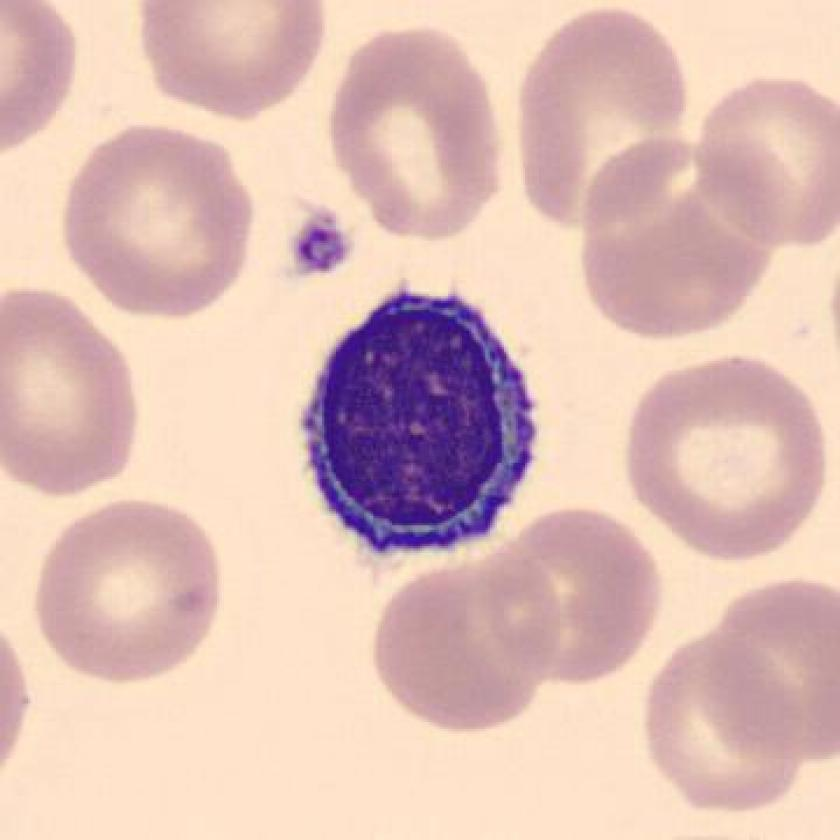lymphocyte: (284, 265, 550, 573)
